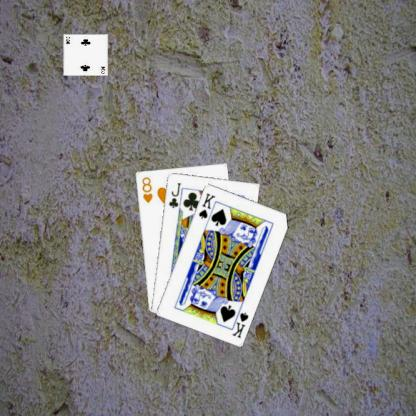8H: (138, 174, 154, 204)
JC: (166, 180, 182, 210)
KS: (228, 305, 250, 339), (196, 190, 216, 220)
